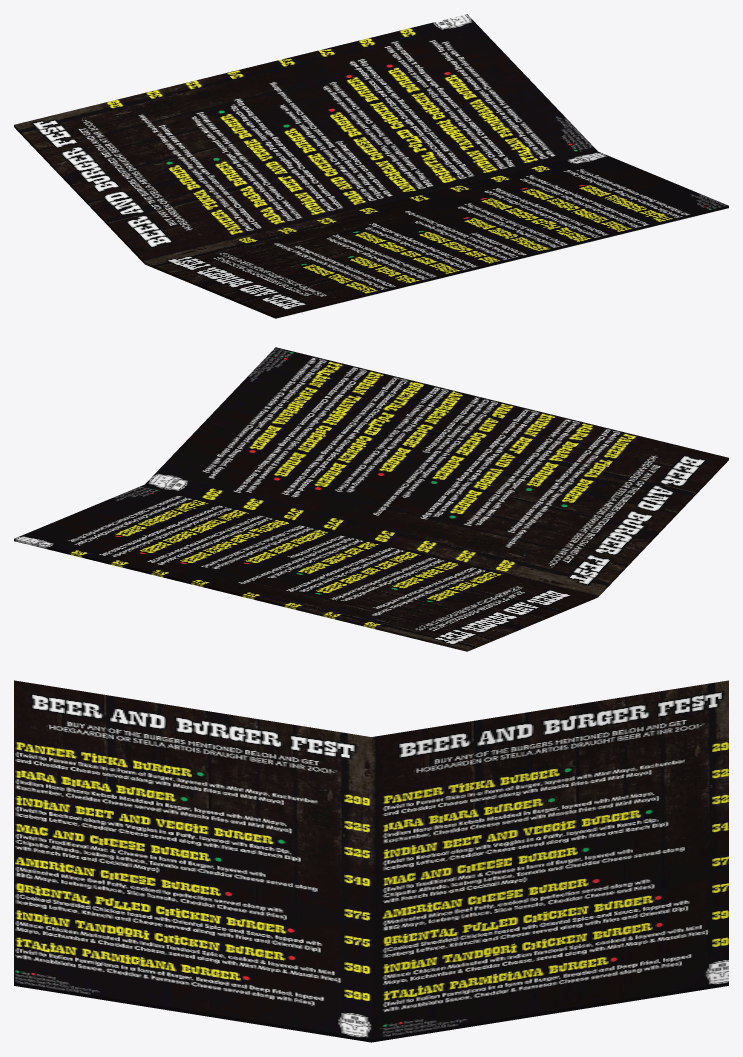
Rendered from MenuVirginia.fbx.
The picture shows the model from 3 angles, top to bottom: view 1: azimuth 30°, elevation 25°; view 2: azimuth 150°, elevation 25°; view 3: azimuth 270°, elevation 25°; orthographic projection. The views are drawn at different scales.
Visible parts, largest first — view 1: Menu; view 2: Menu; view 3: Menu.
Boxes of the visible parts, bbox=[...] form: Menu: bbox=[14, 14, 728, 318]; Menu: bbox=[14, 347, 728, 651]; Menu: bbox=[14, 680, 728, 1042].
Size of the model in its own units: 1 by 0.0926 by 1.
1 material, 1 textured.
